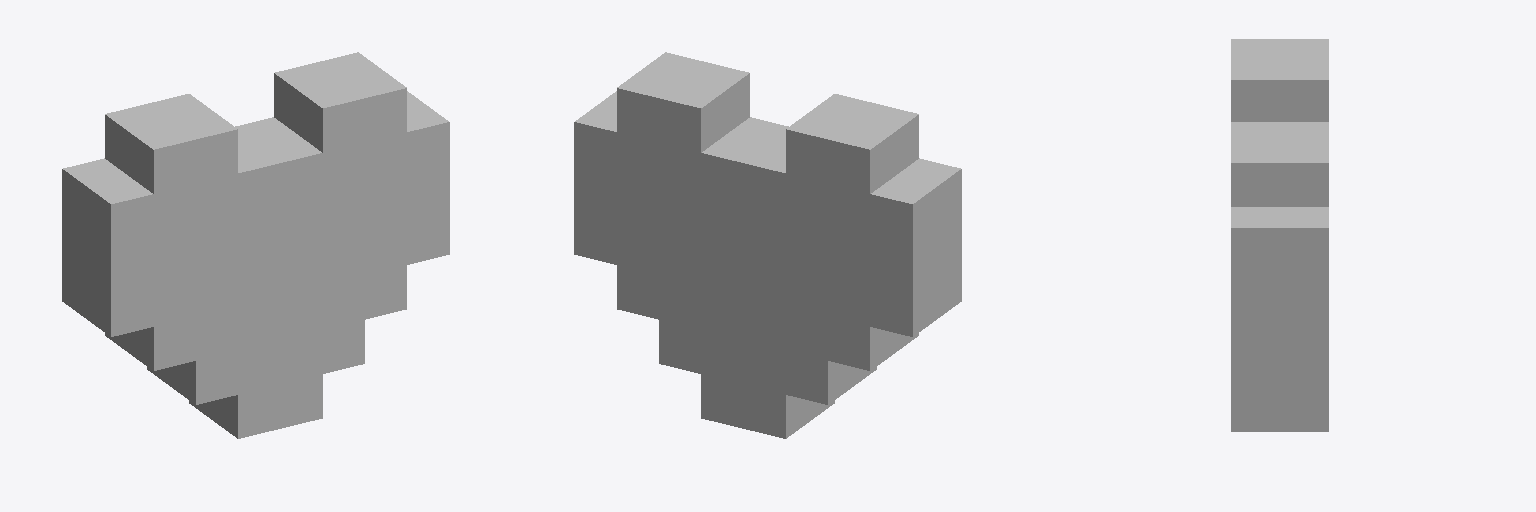
Rendered from heart.obj.
3 renders of one model, left to right at view 1: azimuth 30°, elevation 25°; view 2: azimuth 150°, elevation 25°; view 3: azimuth 270°, elevation 25°, orthographic.
Visible parts, largest first — view 1: object 1; view 2: object 1; view 3: object 1.
Part boxes in pixels (x1,y1,x2,y2): object 1: (62,52,449,438); object 1: (574,52,961,438); object 1: (1231,39,1328,431).
Size of the model in its own units: 0.8 by 0.7 by 0.2.